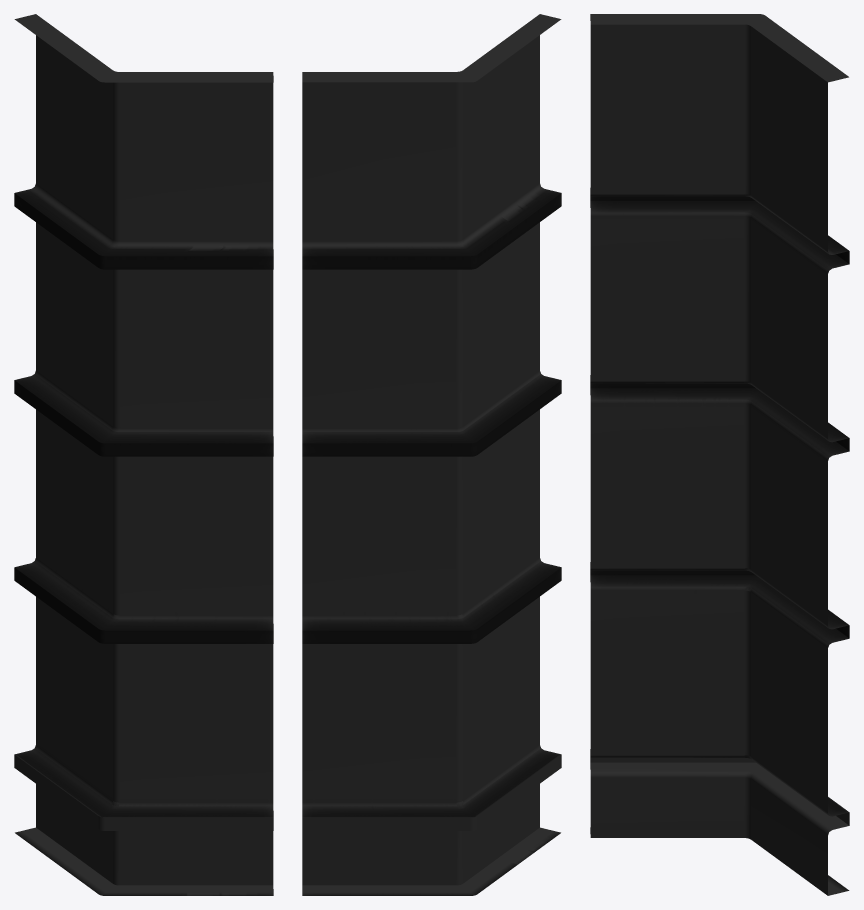
The model's file is VAL_NA_SW.fbx.
3 renders of one model, left to right at view 1: azimuth 90°, elevation 25°; view 2: azimuth 150°, elevation 25°; view 3: azimuth 270°, elevation 25°, orthographic.
Visible parts, largest first — view 1: VAL_NA_SW; view 2: VAL_NA_SW; view 3: VAL_NA_SW.
Part boxes in pixels (x1,y1,x2,y2): VAL_NA_SW: [14, 14, 273, 895]; VAL_NA_SW: [302, 14, 561, 895]; VAL_NA_SW: [590, 14, 849, 895].
Bounding box in the file's own units: 0.8128 × 4.5 × 1.3.
